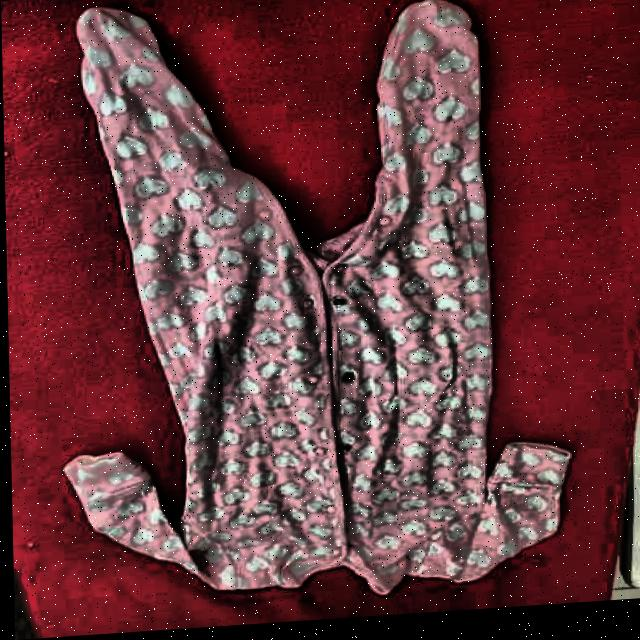clothes: (45, 0, 575, 615)
